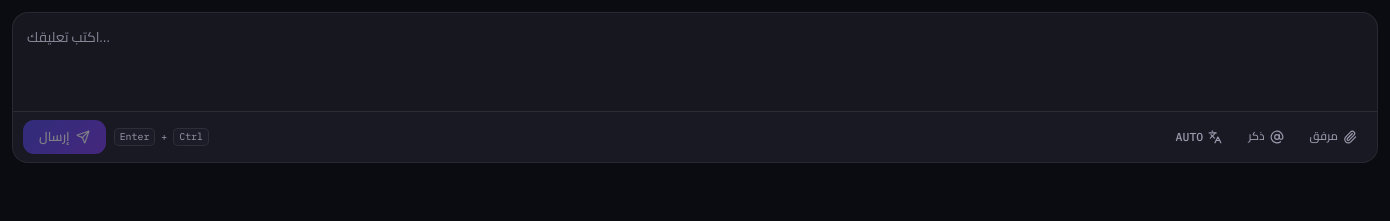
Test: CommentComposer — mentions › inserts the picked person and closes the picker
In the text box: [695, 62] box [13,13,1377,111], type "مرحباً @sar"
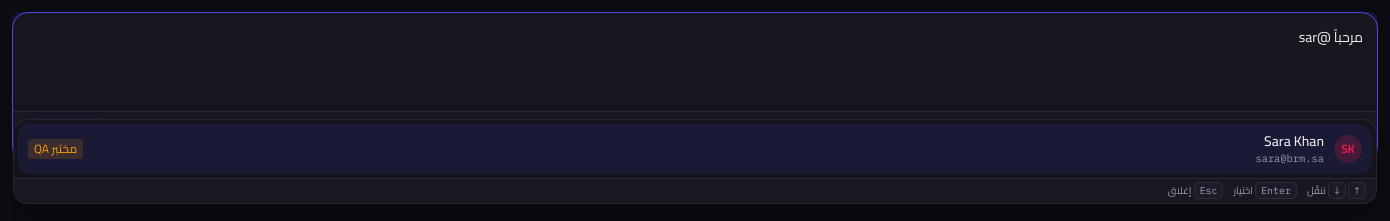
Click the option "SK Sara Khan sara@brm.sa مختبر QA": [1294, 141] box [18,124,1372,174]
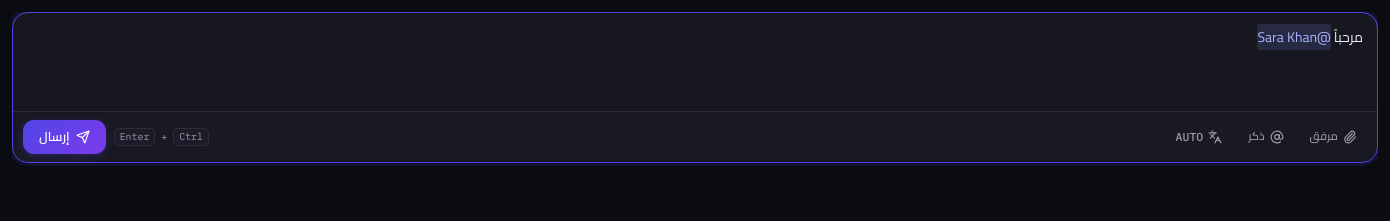
Result: the list is gone
